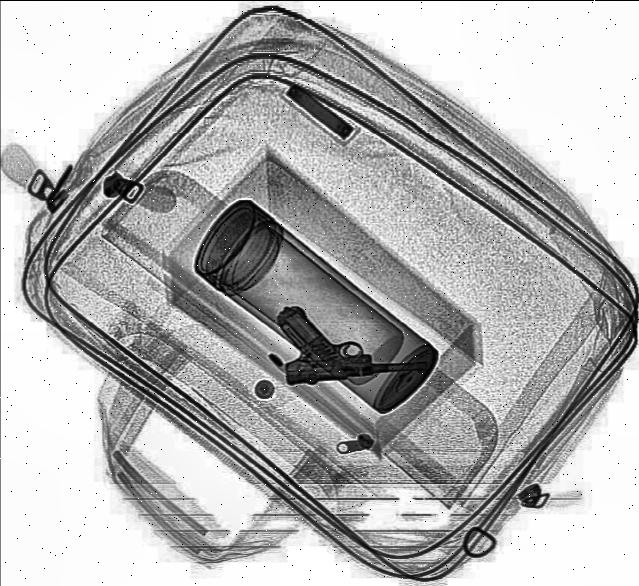Gun: (276, 296, 430, 384)
